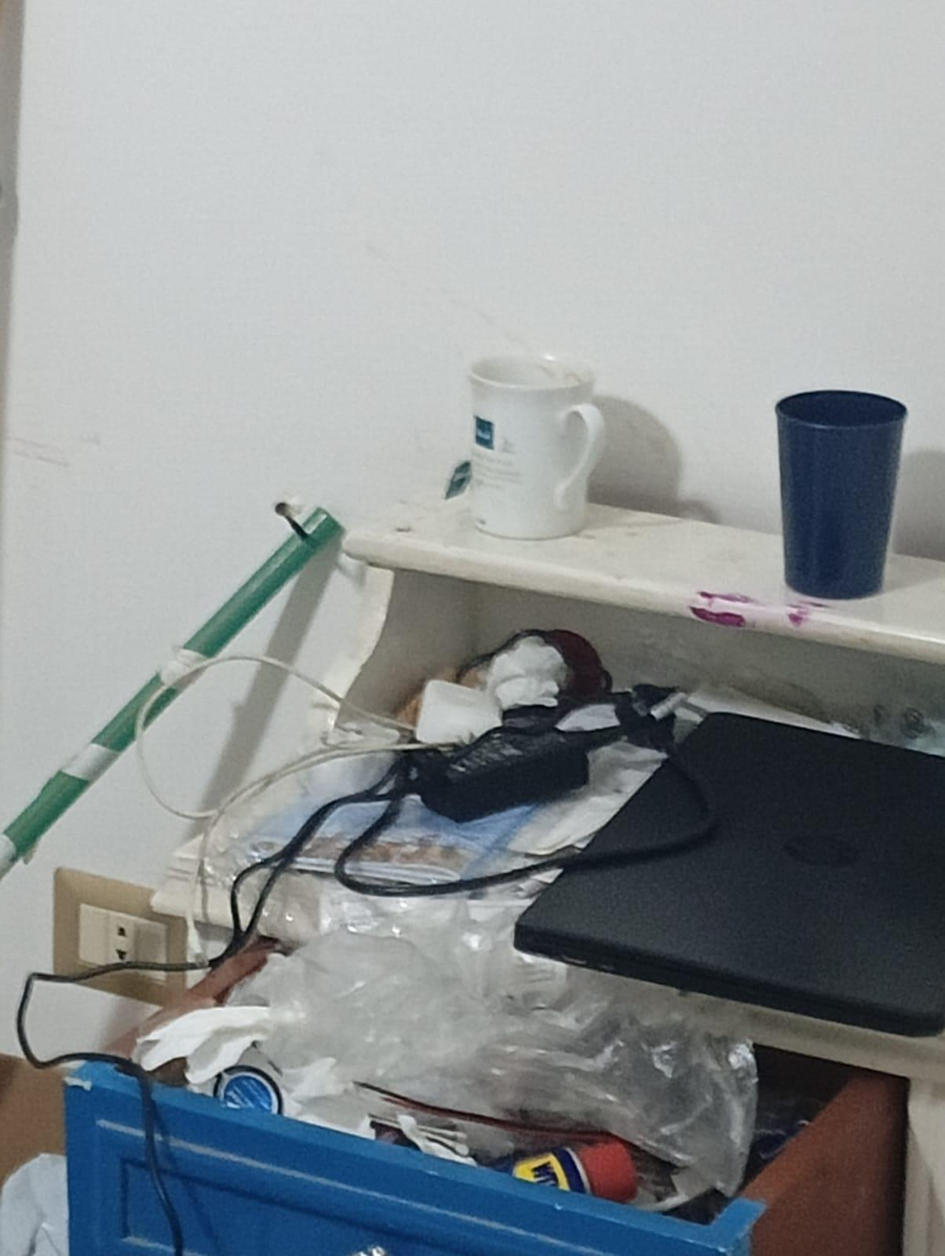cup: (776, 390, 906, 598), (469, 356, 604, 539)
